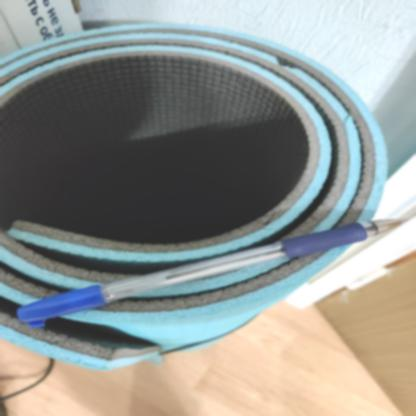Pen: (22, 203, 409, 336)
